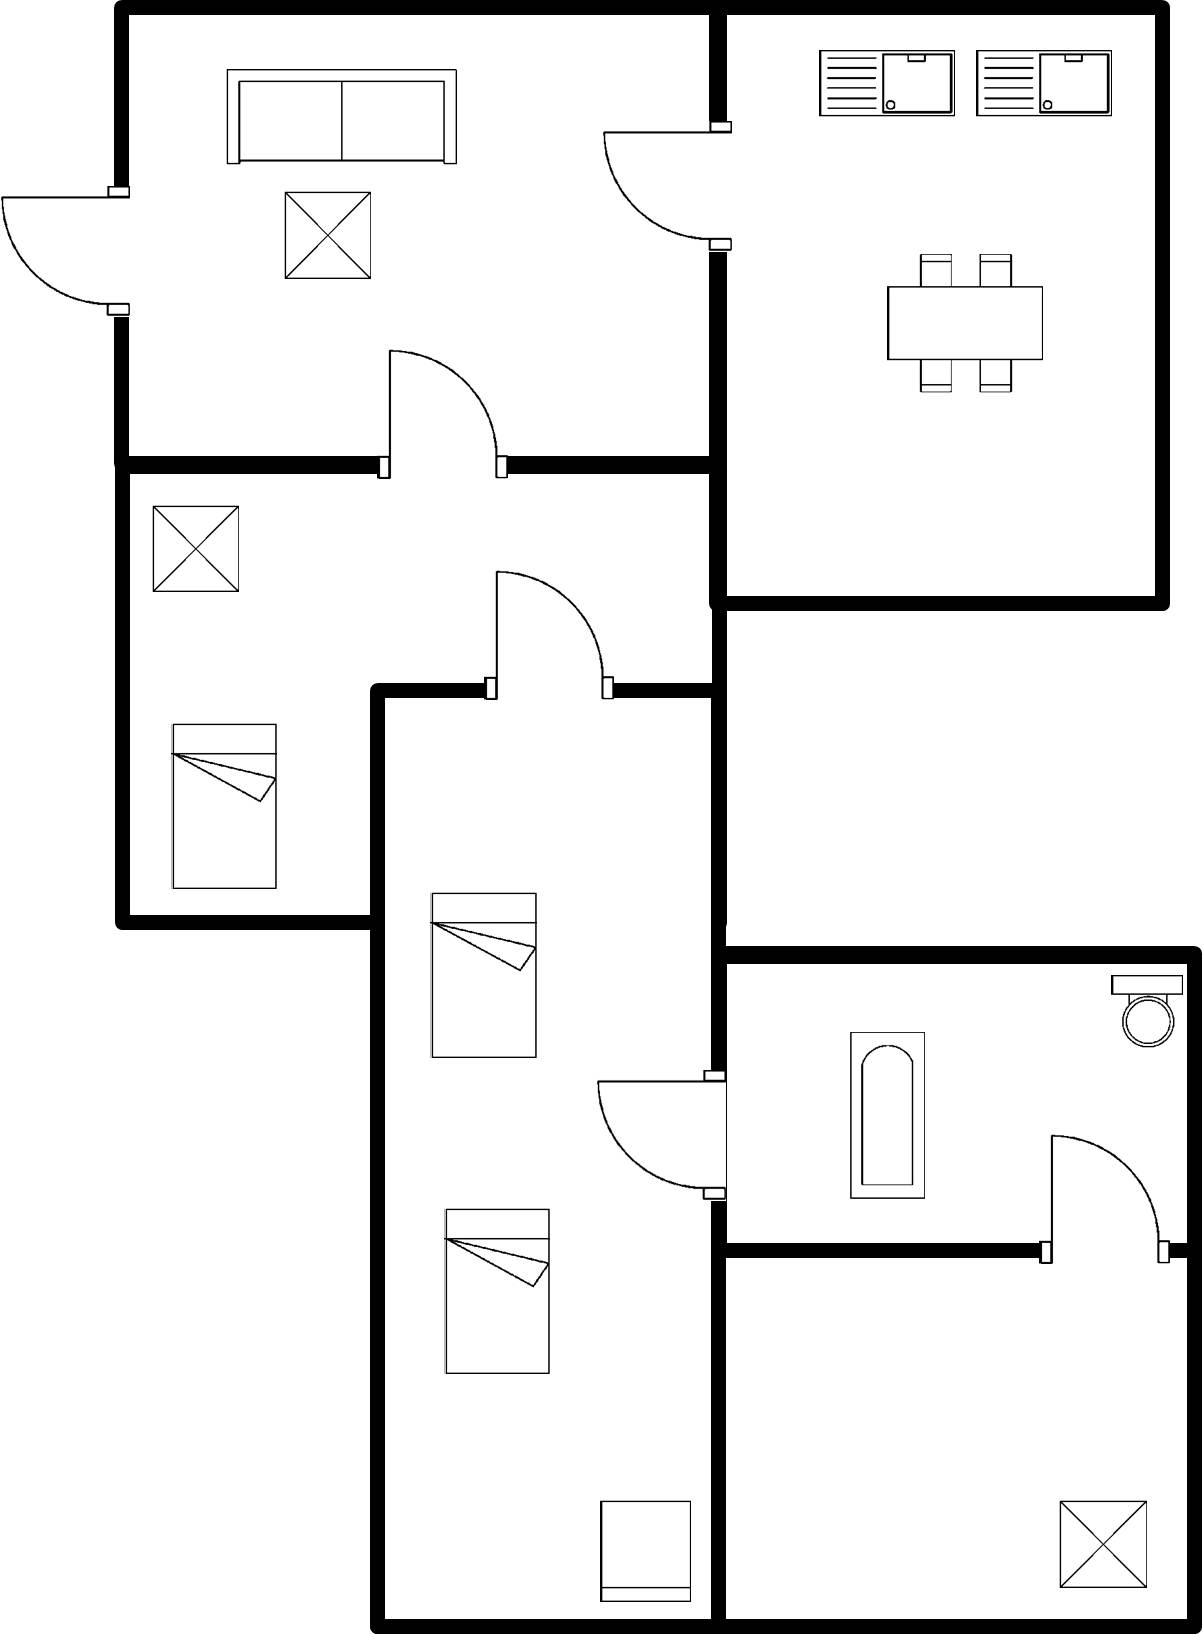bed: (438, 1197, 565, 1389), (419, 884, 547, 1073), (162, 714, 293, 899)
coffee_table: (139, 494, 255, 605), (274, 184, 381, 289)
dining_table: (866, 240, 1058, 405)
large_sink: (1103, 965, 1182, 1056)
large_sofa: (214, 56, 469, 176)
sink: (806, 37, 963, 134), (971, 40, 1119, 132)
small_sofa: (585, 1491, 701, 1616), (1049, 1492, 1158, 1599)
tub: (835, 1016, 936, 1214)
